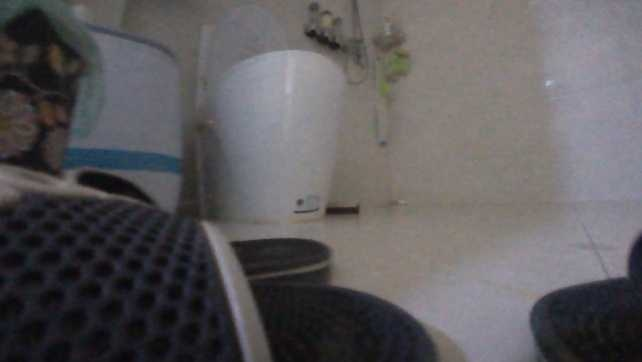shoe: (0, 183, 442, 360)
toilet: (190, 0, 347, 229)
